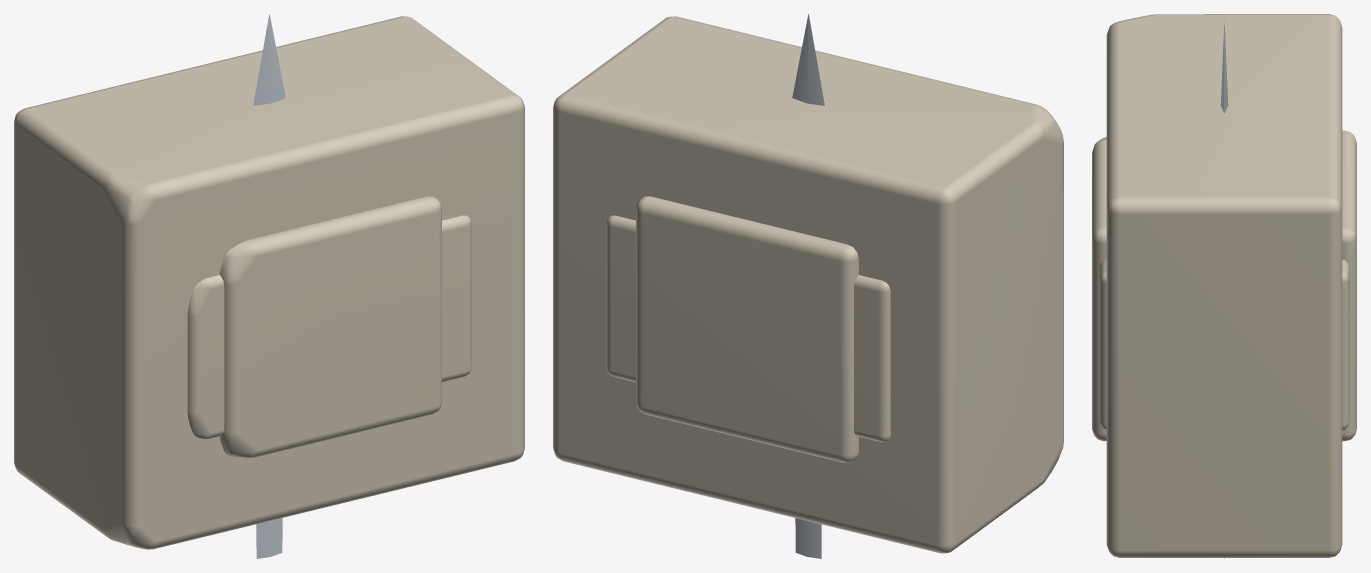
File: golem.glb
3 views of the same model, side by side, from view 1: azimuth 30°, elevation 25°; view 2: azimuth 150°, elevation 25°; view 3: azimuth 270°, elevation 25° (orthographic).
Visible parts, largest first — view 1: part_19, part_28, part_0, part_44; view 2: part_19, part_28, part_0, part_44; view 3: part_19, part_28, part_0, part_44.
Part boxes in pixels (x1,y1,x2,y2): part_19: [14, 16, 524, 549]; part_28: [220, 196, 441, 458]; part_0: [187, 215, 471, 439]; part_44: [253, 14, 285, 558]; part_19: [553, 16, 1063, 553]; part_28: [636, 196, 858, 462]; part_0: [606, 215, 890, 442]; part_44: [792, 14, 824, 558]; part_19: [1106, 14, 1342, 557]; part_28: [1092, 130, 1356, 441]; part_0: [1099, 259, 1349, 430]; part_44: [1220, 19, 1228, 558].
Size of the model in its own units: 0.62 by 0.8 by 0.36.
